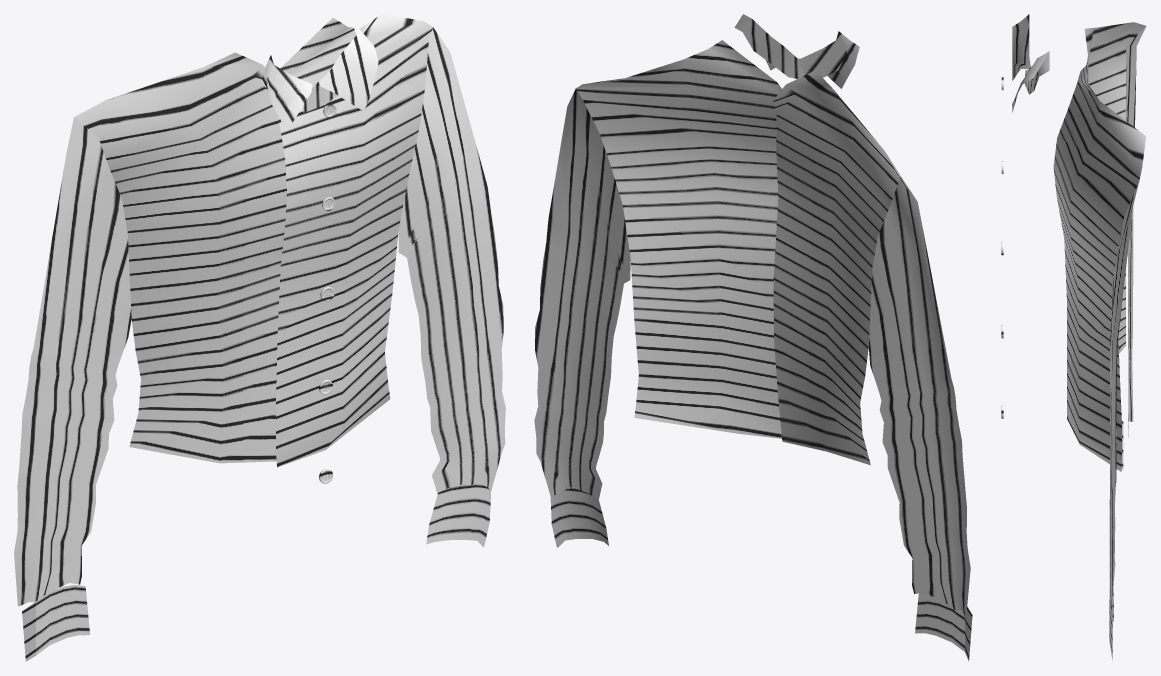
The model's file is ManShirt2withtexture.glb.
The picture shows the model from 3 angles, left to right: view 1: azimuth 30°, elevation 25°; view 2: azimuth 150°, elevation 25°; view 3: azimuth 270°, elevation 25°; orthographic projection. The views are drawn at different scales.
Parts seen in each view (by area): view 1: Plane; view 2: Plane; view 3: Plane.
Boxes of the visible parts, <box> form: Plane: <box>14,14,505,661</box>; Plane: <box>534,14,972,661</box>; Plane: <box>1001,14,1146,660</box>.
Bounding box in the file's own units: 2.75 × 3.28 × 0.7921.
Materials: 1 (1 with a texture image).
